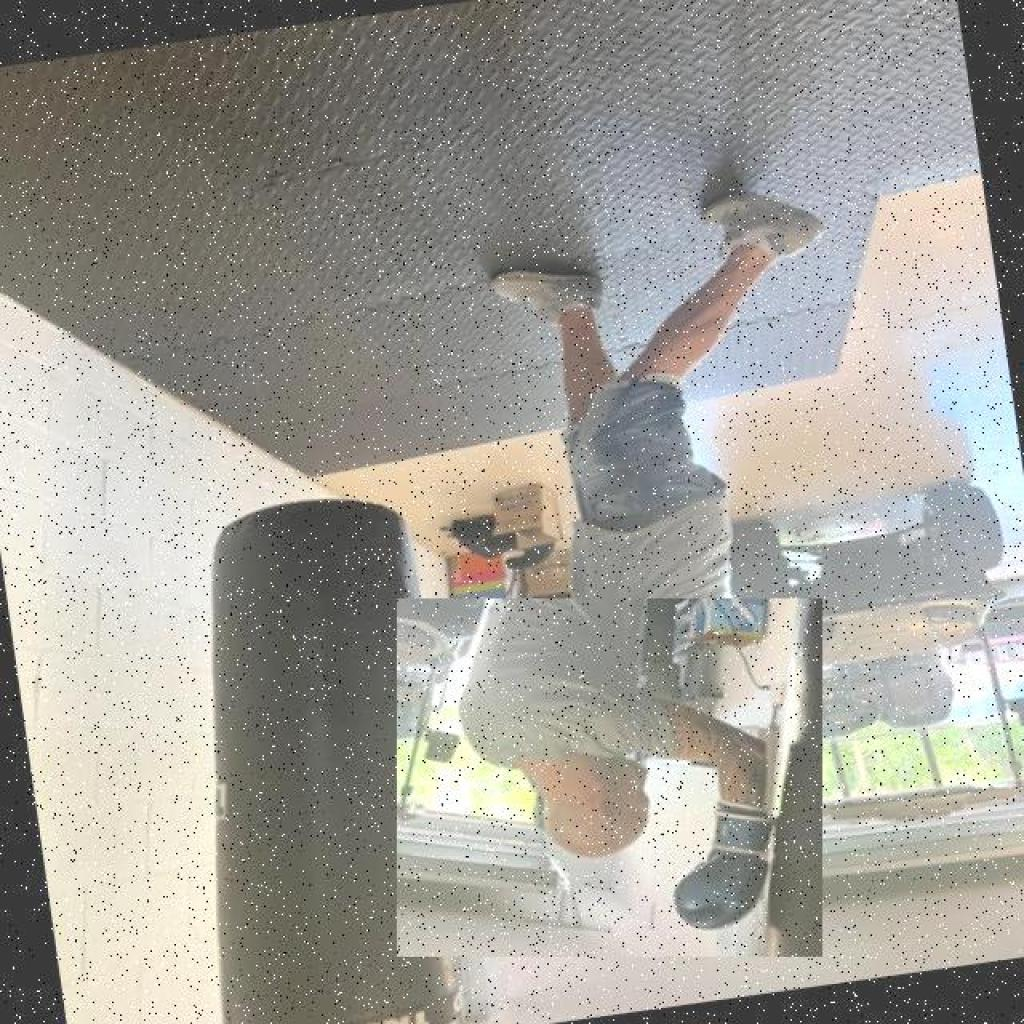uppercut: (397, 598, 822, 956)
